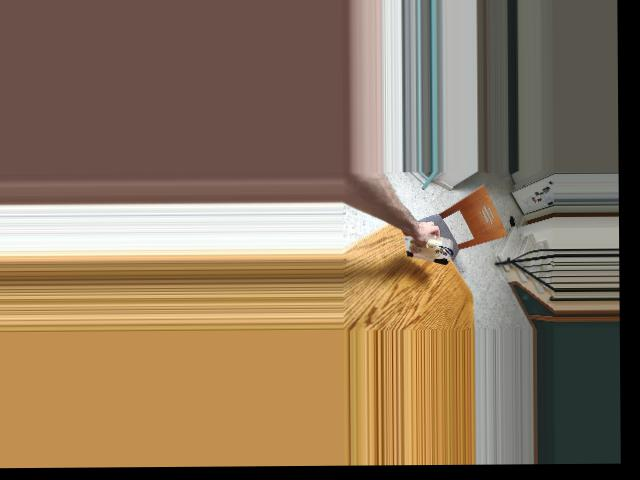cheese: (404, 232, 451, 265)
